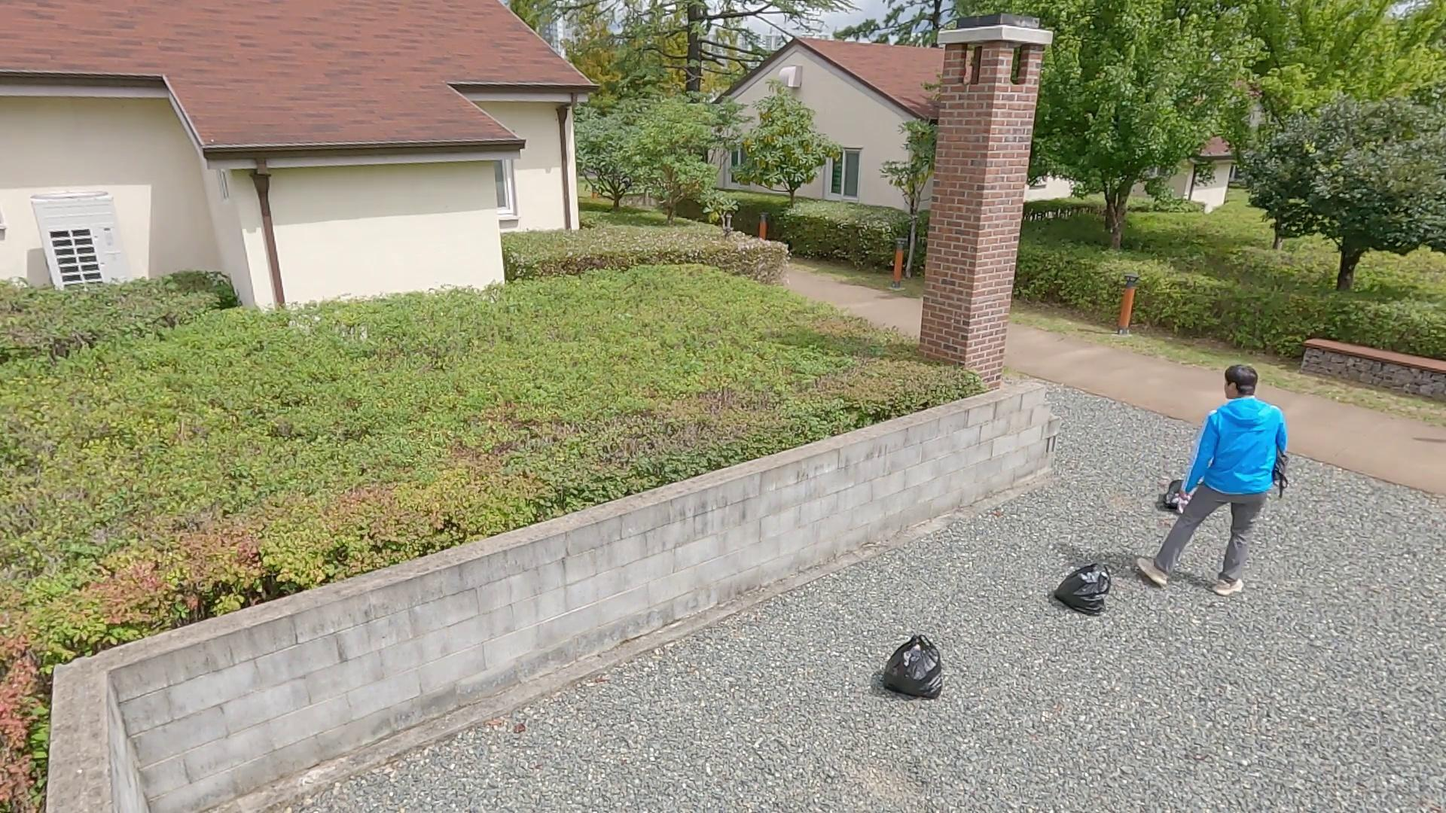person: (1140, 364, 1289, 597)
trash: (880, 635, 945, 695), (1050, 555, 1113, 614), (1161, 478, 1188, 518)
